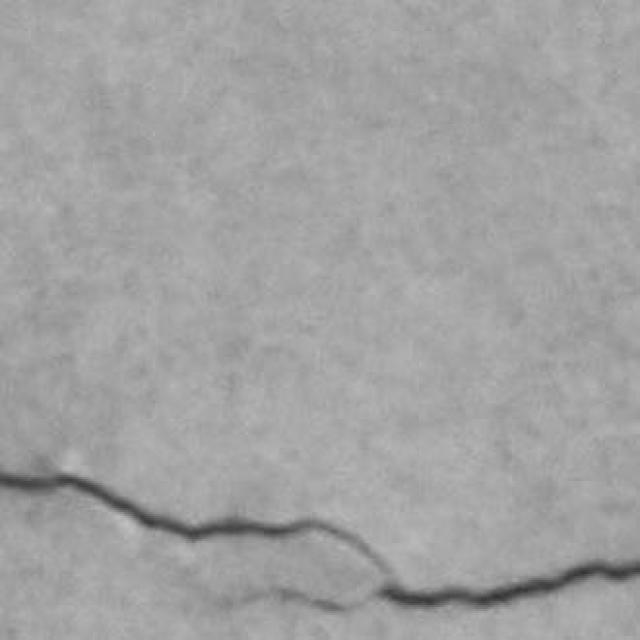crack: (0, 472, 639, 612), (0, 472, 393, 575), (375, 561, 639, 608)
